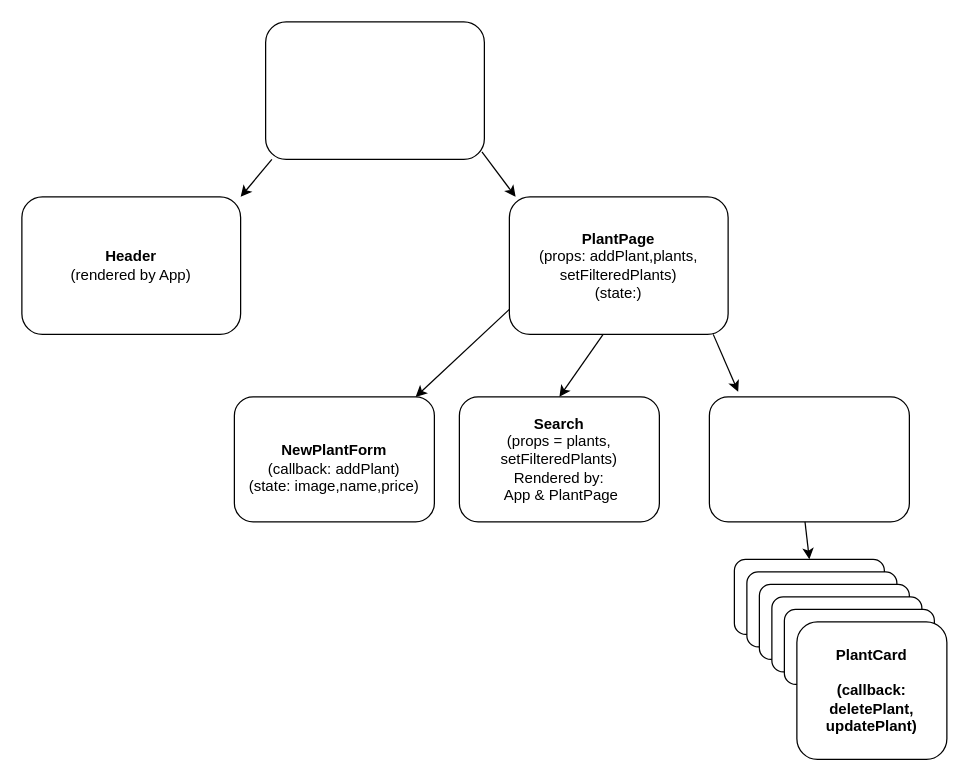
Some shapes in this 969 by 781 pixel diagram are drawn without their labels. Each missing label, with the centre of its shape:
"App" belongs at (374,90).
"PlantList (callback: deletePlant)" belongs at (808,459).
